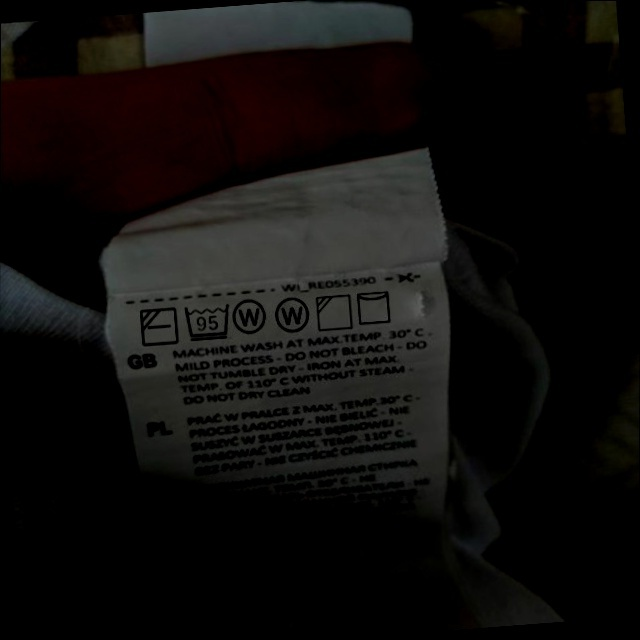95C: (182, 301, 233, 342)
dry_flat_in_shade: (137, 304, 180, 349)
line_dry: (354, 286, 396, 327)
shade_dry: (314, 291, 355, 333)
wet_clean: (232, 294, 270, 337), (273, 295, 312, 336)
